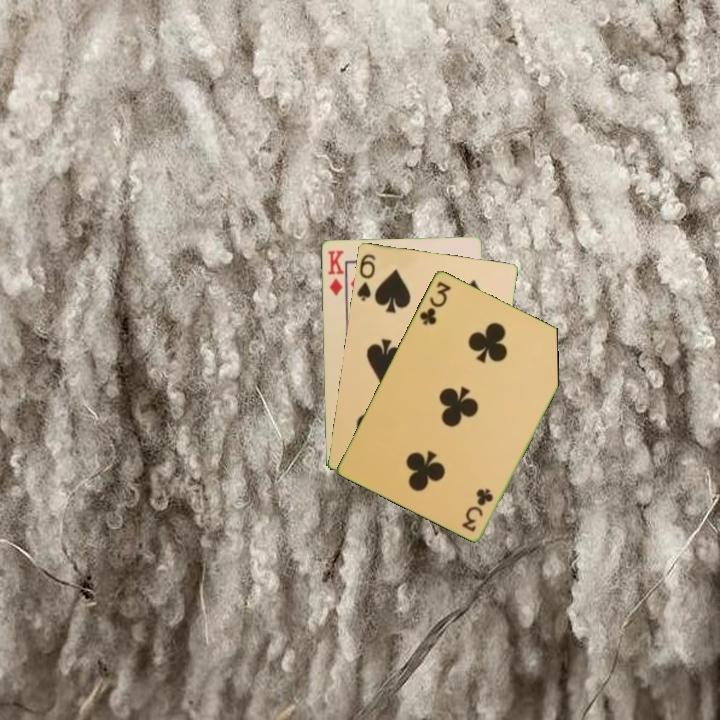3c: (416, 277, 454, 328), (459, 484, 496, 535)
6s: (353, 250, 378, 304)
Kd: (324, 247, 346, 299)
